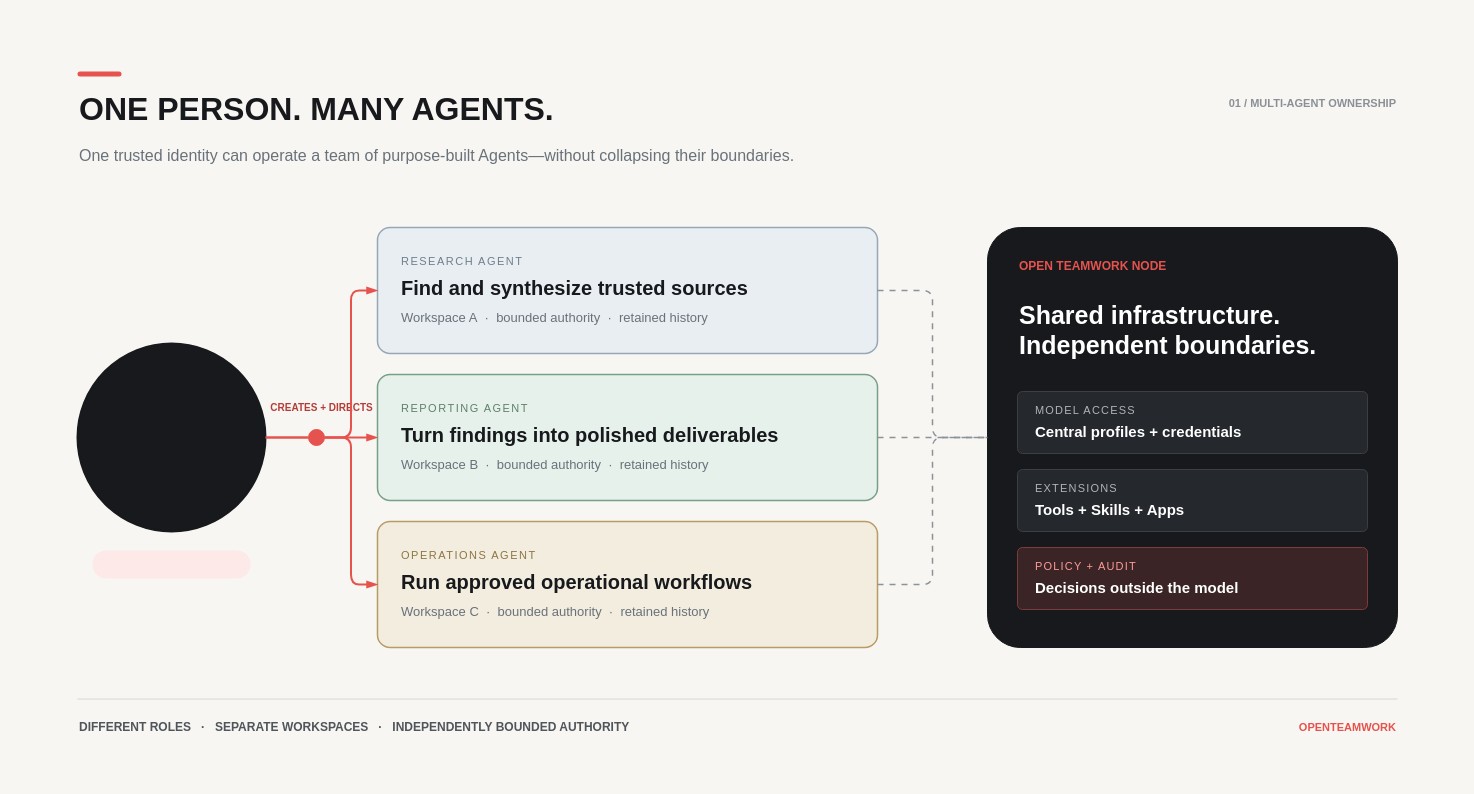
This 1474x794 diagram has some shape labels left out. The centre of each missing label's shape, as x and y in pixels:
"AUTHENTICATED USER One identity Owns and directs multiple Agents" belongs at (171,437).
"USER PRIVILEGE CEILING" belongs at (171,564).
